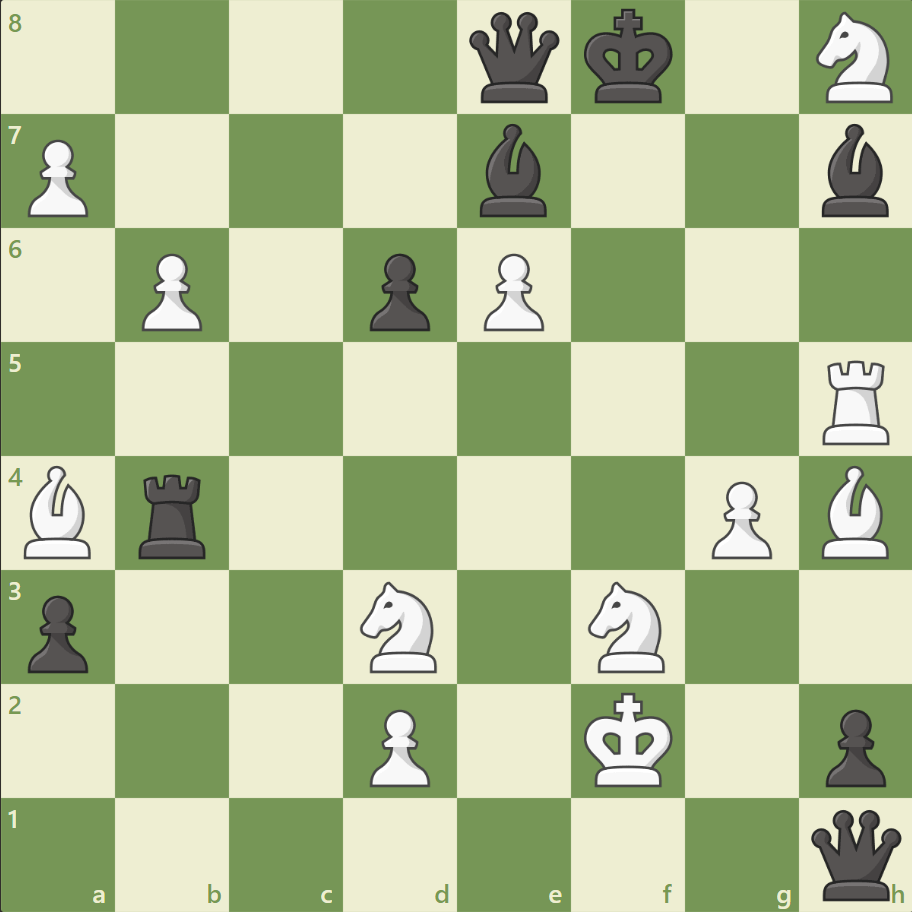B: (17, 460, 101, 563), (812, 460, 896, 563)
K: (579, 685, 679, 793)
N: (351, 575, 449, 677), (806, 7, 903, 110), (579, 575, 676, 677)
P: (20, 132, 95, 223), (133, 246, 208, 337), (474, 246, 549, 337), (701, 473, 776, 564), (361, 700, 435, 791)
R: (814, 352, 897, 449)
b: (471, 120, 555, 222), (812, 120, 896, 222)
k: (579, 4, 679, 112)
p: (20, 586, 95, 677), (361, 246, 435, 337), (815, 700, 889, 791)
q: (464, 9, 563, 108), (805, 804, 904, 903)
r: (133, 466, 215, 563)
